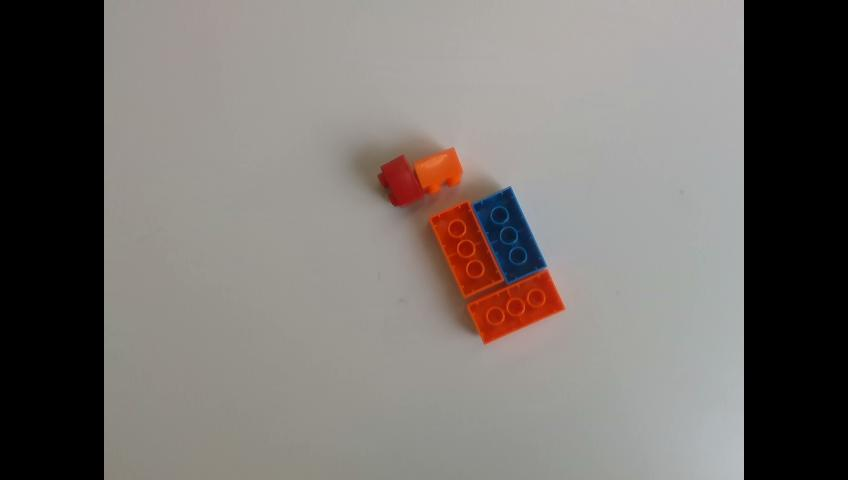2x2_orange: (413, 149, 465, 194)
2x2_red: (378, 154, 425, 208)
4x2_blue: (473, 187, 550, 287)
4x2_orange: (425, 201, 505, 299), (467, 269, 567, 345)
